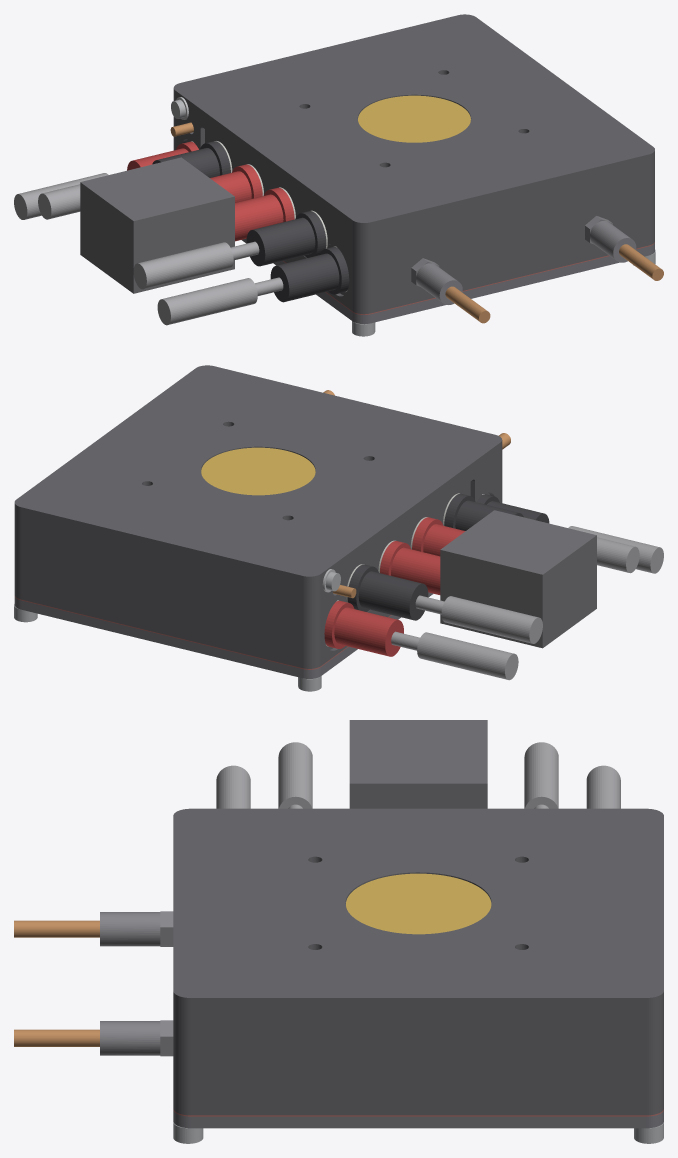
The picture shows the model from 3 angles, top to bottom: view 1: azimuth 30°, elevation 25°; view 2: azimuth 150°, elevation 25°; view 3: azimuth 270°, elevation 25°; orthographic projection. The views are drawn at different scales.
Parts seen in each view (by area): view 1: p000, p044, p072, p046, p048, p132, p037, p023, p016, p140, p142, p045 (+7 smaller); view 2: p000, p044, p072, p132, p045, p047, p030, p002, p009, p046, p048, p023 (+5 smaller); view 3: p000, p044, p072, p132, p142, p140, p045, p046, p141, p143, p047, p048 (+2 smaller).
Part boxes in pixels (x1,y1,x2,y2): p000: (173,14,654,314); p044: (80,157,234,293); p072: (358,95,470,142); p046: (133,241,259,289); p048: (157,277,283,325); p132: (242,238,654,324); p037: (270,253,339,302); p023: (246,217,315,266); p016: (235,194,283,241); p140: (411,258,462,304); p142: (585,216,636,262); p045: (38,184,80,219); p000: (14,365,502,668); p044: (440,510,596,648); p072: (201,447,315,495); p132: (14,592,433,678); p045: (415,595,542,643); p047: (391,631,518,680); p030: (334,607,403,656); p002: (358,571,428,620); p009: (391,547,440,594); p046: (597,537,639,573); p048: (568,526,663,573); p023: (455,500,523,530); p000: (173,808,663,1115); p044: (349,720,487,808); p072: (346,873,491,934); p132: (173,1110,663,1128); p142: (100,1020,173,1056); p140: (100,911,173,946); p045: (524,742,558,808); p046: (278,742,312,808); p141: (14,920,99,937); p143: (14,1029,99,1046); p047: (586,765,620,808); p048: (216,765,250,808).
Size of the model in its own units: 163 by 37.4 by 151.
